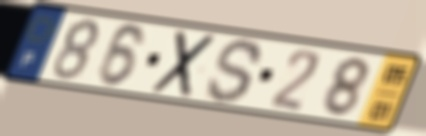2: (265, 48, 322, 114)
6: (93, 23, 151, 90)
8: (50, 17, 104, 82), (321, 55, 374, 119)
S: (204, 36, 266, 106)
X: (146, 28, 220, 100)
